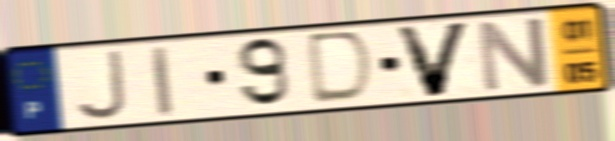9: (232, 36, 294, 111)
D: (307, 28, 378, 107)
I: (149, 43, 177, 119)
J: (70, 48, 130, 123)
N: (475, 13, 553, 96)
V: (390, 19, 476, 101)
